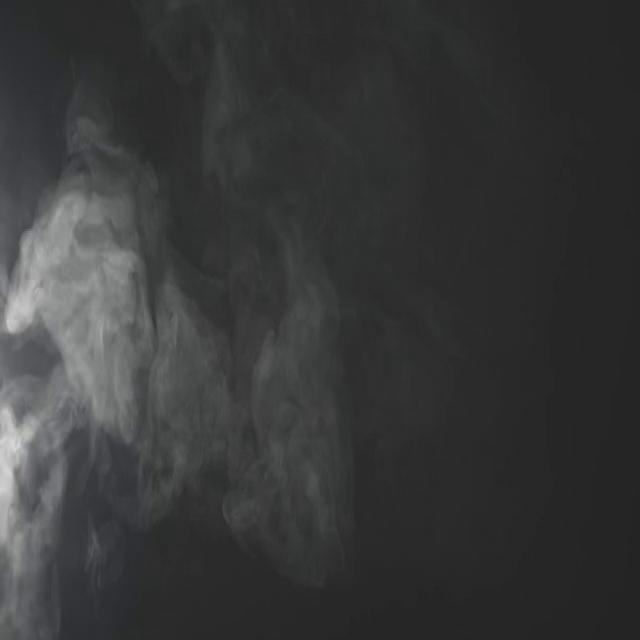smoke: (60, 274, 155, 401), (98, 384, 192, 500), (258, 340, 330, 450), (1, 386, 58, 515), (1, 512, 58, 634), (164, 296, 224, 398), (266, 448, 312, 554), (2, 254, 62, 332), (80, 160, 126, 255), (36, 216, 92, 280), (133, 202, 168, 294)
